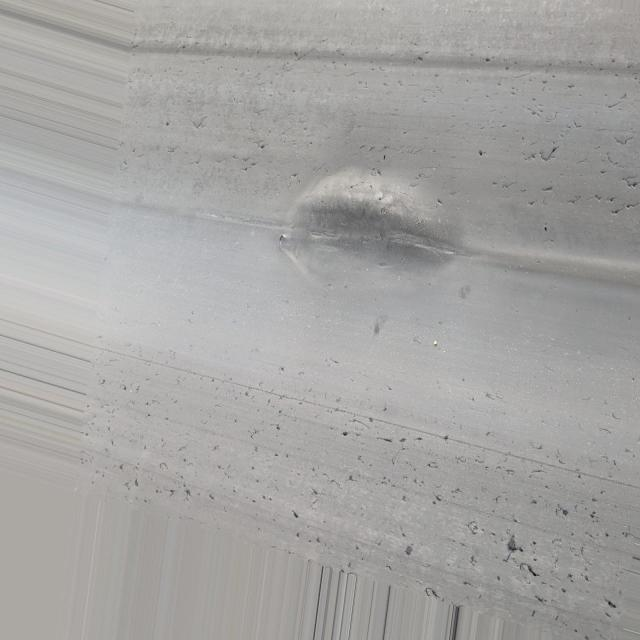impact damage: (281, 166, 465, 309)
